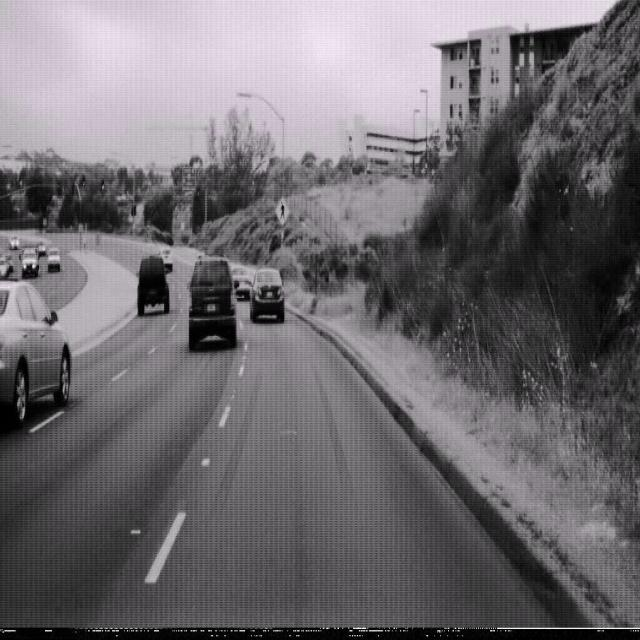pedestrianCrossing: (273, 194, 291, 227)
